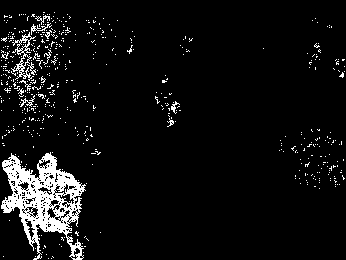person: (1, 153, 67, 260), (34, 151, 87, 260)
